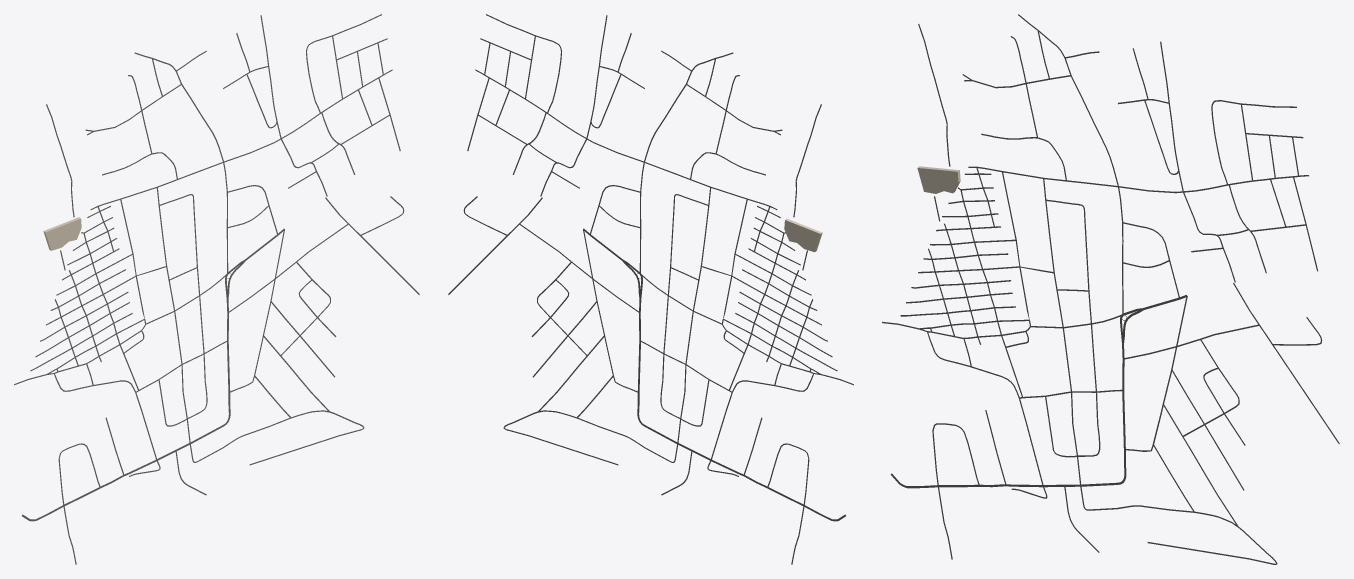
File: zarqa_3607_3213.glb
3 renders of one model, left to right at view 1: azimuth 30°, elevation 25°; view 2: azimuth 150°, elevation 25°; view 3: azimuth 330°, elevation 25°, orthographic. The views are drawn at different scales.
Visible parts, largest first — view 1: Road .048, Building_, Road .045, Road .021; view 2: Road .048, Building_, Road .045, Road .021; view 3: Road .048, Building_, Road .045, Road .021, Road .005, Road .046.
Part boxes in pixels (x1=…): Road .048: x1=22, y1=299, x2=230, y2=521; Building_: x1=43, y1=217, x2=81, y2=250; Road .045: x1=156, y1=187, x2=246, y2=462; Road .021: x1=120, y1=69, x2=392, y2=199; Road .048: x1=637, y1=299, x2=845, y2=521; Building_: x1=784, y1=218, x2=822, y2=252; Road .045: x1=621, y1=187, x2=711, y2=462; Road .021: x1=475, y1=69, x2=747, y2=199; Road .048: x1=890, y1=343, x2=1126, y2=488; Building_: x1=917, y1=166, x2=960, y2=193; Road .045: x1=1043, y1=179, x2=1144, y2=510; Road .021: x1=1002, y1=171, x2=1308, y2=193; Road .005: x1=1018, y1=14, x2=1123, y2=314; Road .046: x1=1045, y1=199, x2=1100, y2=456.
Bounding box in the file's own units: 1124 × 1334 × 10.5.
